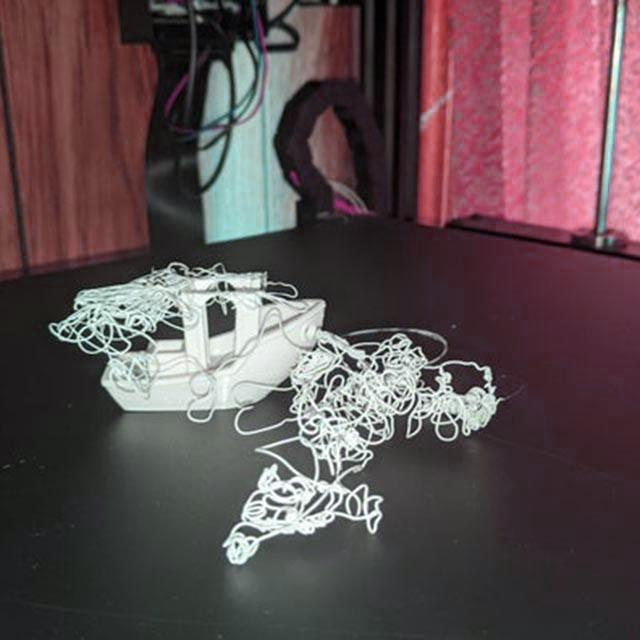Spaghetti: (214, 320, 508, 567), (41, 258, 310, 423)
